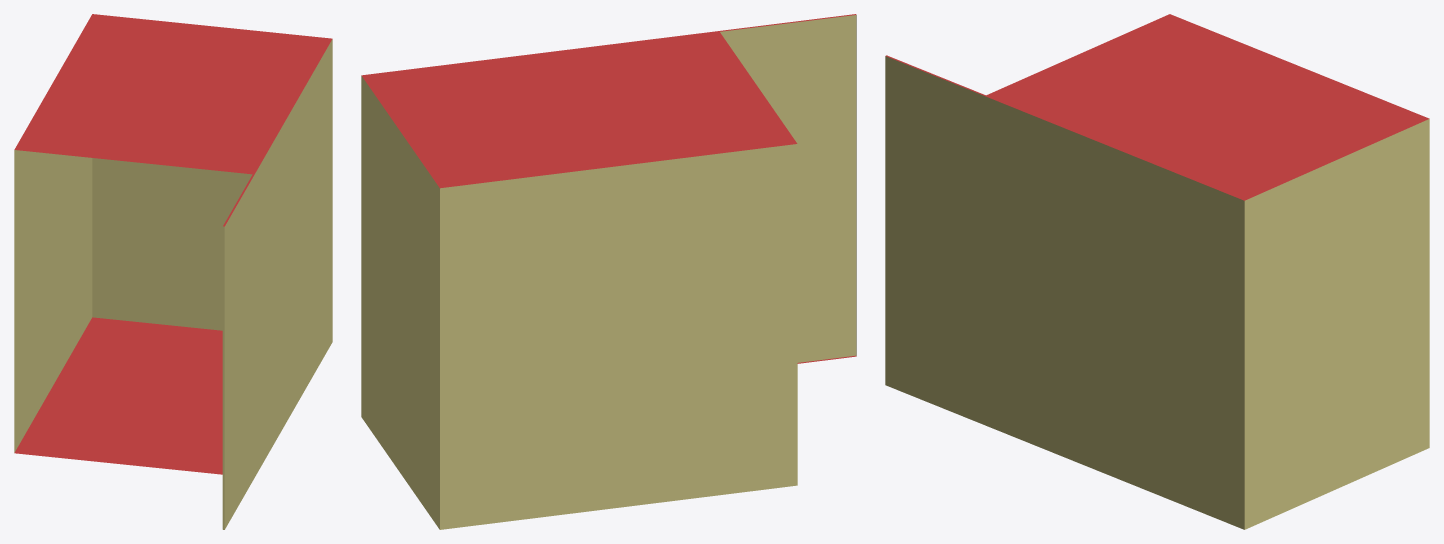
3 renders of one model, left to right at view 1: azimuth 30°, elevation 25°; view 2: azimuth 150°, elevation 25°; view 3: azimuth 270°, elevation 25°, orthographic. The views are drawn at different scales.
Size of the model in its own units: 7.22 by 8.9 by 5.93.
